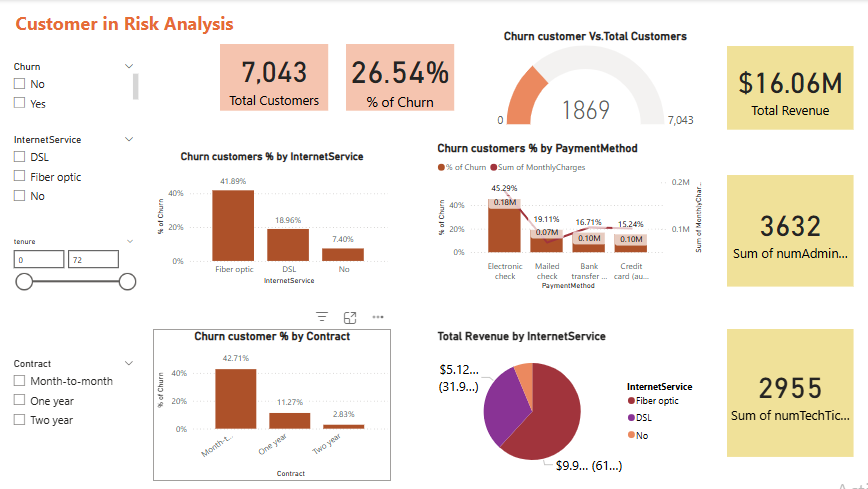

The page's visual inventory and layout, read from the dashboard file:
{"tool":"powerbi","page":{"name":"Customer","canvas":[1280,720],"ordinal":0},"visuals":[{"type":"card","fields":{"Values":["Measures (2).Total Customers"]},"box":[326.2,66.1,158.7,98.4],"z":0},{"type":"textbox","box":[10.3,11.8,351.2,54.4],"z":1000},{"type":"slicer","fields":{"Values":["Rentention database.Churn"]},"box":[10.3,86.7,201.3,77.9],"z":2000},{"type":"slicer","fields":{"Values":["Rentention database.InternetService"]},"box":[10.3,194,201.3,129.3],"z":3000},{"type":"slicer","fields":{"Values":["Rentention database.tenure"]},"box":[10.3,345.3,201.3,113.1],"z":4000},{"type":"slicer","fields":{"Values":["Rentention database.Contract"]},"box":[10,522.5,201,150],"z":5000},{"type":"card","fields":{"Values":["Measures (2).% of Churn"]},"box":[511.3,66.1,158.7,98.4],"z":6000},{"type":"gauge","title":"Churn customer Vs.Total Customers","fields":{"Y":["Measures (2).Churn customer"],"MaxValue":["Measures (2).Total Customers"]},"box":[717.1,44.1,321.8,149.9],"z":7000},{"type":"card","fields":{"Values":["Measures (2).Total Revenue"]},"box":[1070.8,69.7,185.9,123.4],"z":8000},{"type":"clusteredColumnChart","title":"Churn customers % by InternetService","fields":{"Category":["Rentention database.InternetService"],"Y":["Measures (2).% of Churn"]},"box":[227,221.7,350.4,202],"z":9000},{"type":"lineClusteredColumnComboChart","title":"Churn customer % by Contract","fields":{"Category":["Rentention database.Contract"],"Y":["Measures (2).% of Churn"]},"box":[227,484.5,350.4,223.5],"z":10000},{"type":"lineClusteredColumnComboChart","title":"Churn customers % by PaymentMethod","fields":{"Category":["Rentention database.PaymentMethod"],"Y":["Measures (2).% of Churn"],"Y2":["Sum(Rentention database.MonthlyCharges)"]},"box":[640,209.2,398.7,223.5],"z":11000},{"type":"pieChart","fields":{"Category":["Rentention database.InternetService"],"Y":["Measures (2).Total Revenue"]},"box":[640,484.5,398.7,223.5],"z":12000},{"type":"card","fields":{"Values":["Sum(Rentention database.numAdminTickets)"]},"box":[1070.8,259.2,185.9,164.5],"z":13000},{"type":"card","fields":{"Values":["Sum(Rentention database.numTechTickets)"]},"box":[1070.8,484.5,185.9,187.7],"z":14000}]}

Visuals, with their boxes in screenshot pixels (x1, y1, x2, y2), scaled from the page's 1280x720 canvas onto the 868x489 screenshot:
card - Measures (2).Total Customers: crop(221, 45, 329, 112)
textbox: crop(7, 8, 245, 45)
slicer - Rentention database.Churn: crop(7, 59, 143, 112)
slicer - Rentention database.InternetService: crop(7, 132, 143, 220)
slicer - Rentention database.tenure: crop(7, 235, 143, 311)
slicer - Rentention database.Contract: crop(7, 355, 143, 457)
card - Measures (2).% of Churn: crop(347, 45, 454, 112)
"Churn customer Vs.Total Customers" gauge: crop(486, 30, 705, 132)
card - Measures (2).Total Revenue: crop(726, 47, 852, 131)
"Churn customers % by InternetService" clusteredColumnChart: crop(154, 151, 392, 288)
"Churn customer % by Contract" lineClusteredColumnComboChart: crop(154, 329, 392, 481)
"Churn customers % by PaymentMethod" lineClusteredColumnComboChart: crop(434, 142, 704, 294)
pieChart - Rentention database.InternetService x Measures (2).Total Revenue: crop(434, 329, 704, 481)
card - Sum(Rentention database.numAdminTickets): crop(726, 176, 852, 288)
card - Sum(Rentention database.numTechTickets): crop(726, 329, 852, 457)
